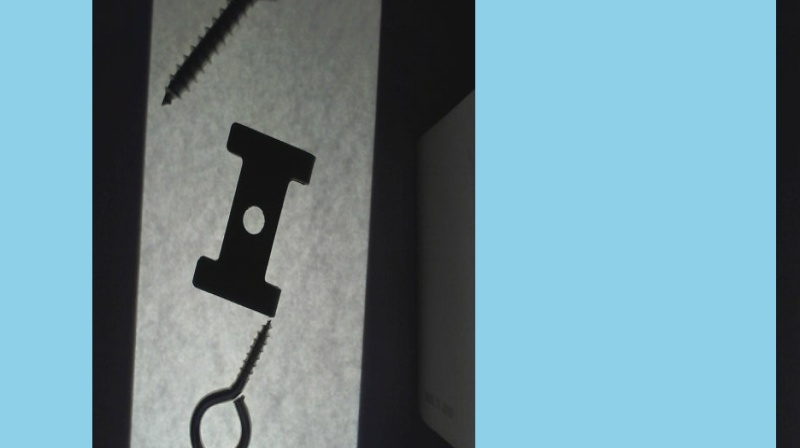O001: (187, 318, 272, 447)
O002: (191, 121, 315, 315)
S001: (160, 0, 278, 107)
